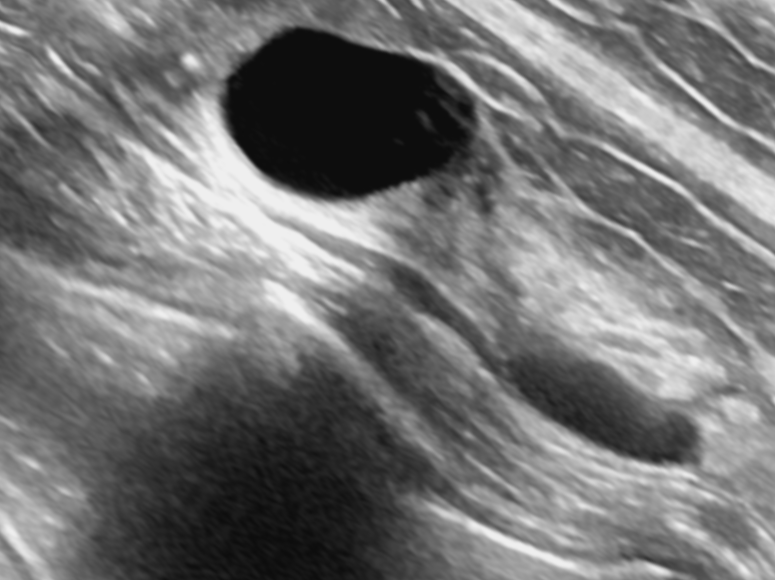Benign: (222, 21, 466, 201)
